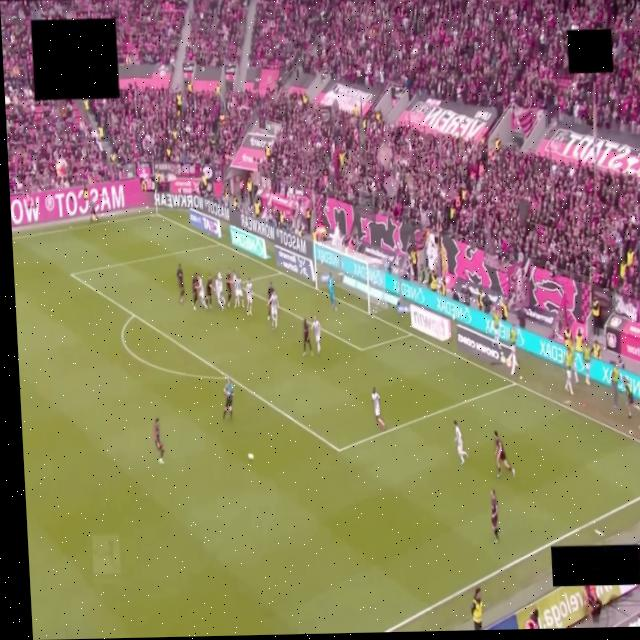ball: (247, 453, 253, 460)
player: (494, 430, 514, 477), (453, 420, 467, 464), (153, 417, 165, 465), (371, 388, 384, 430), (491, 490, 500, 542), (266, 281, 276, 320), (215, 272, 225, 309), (268, 291, 277, 329), (303, 319, 312, 356), (176, 264, 184, 302), (196, 275, 205, 308), (233, 274, 242, 307), (327, 273, 335, 310), (312, 317, 320, 354), (245, 279, 252, 316), (225, 269, 232, 306), (192, 273, 198, 309), (205, 276, 211, 308)
referee: (223, 379, 233, 419)
